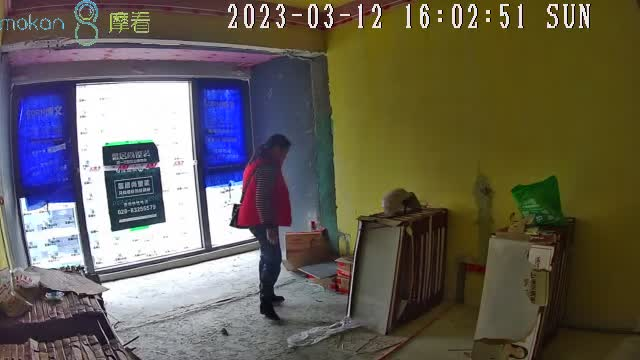people: (237, 134, 294, 321)
window: (11, 80, 259, 282)
